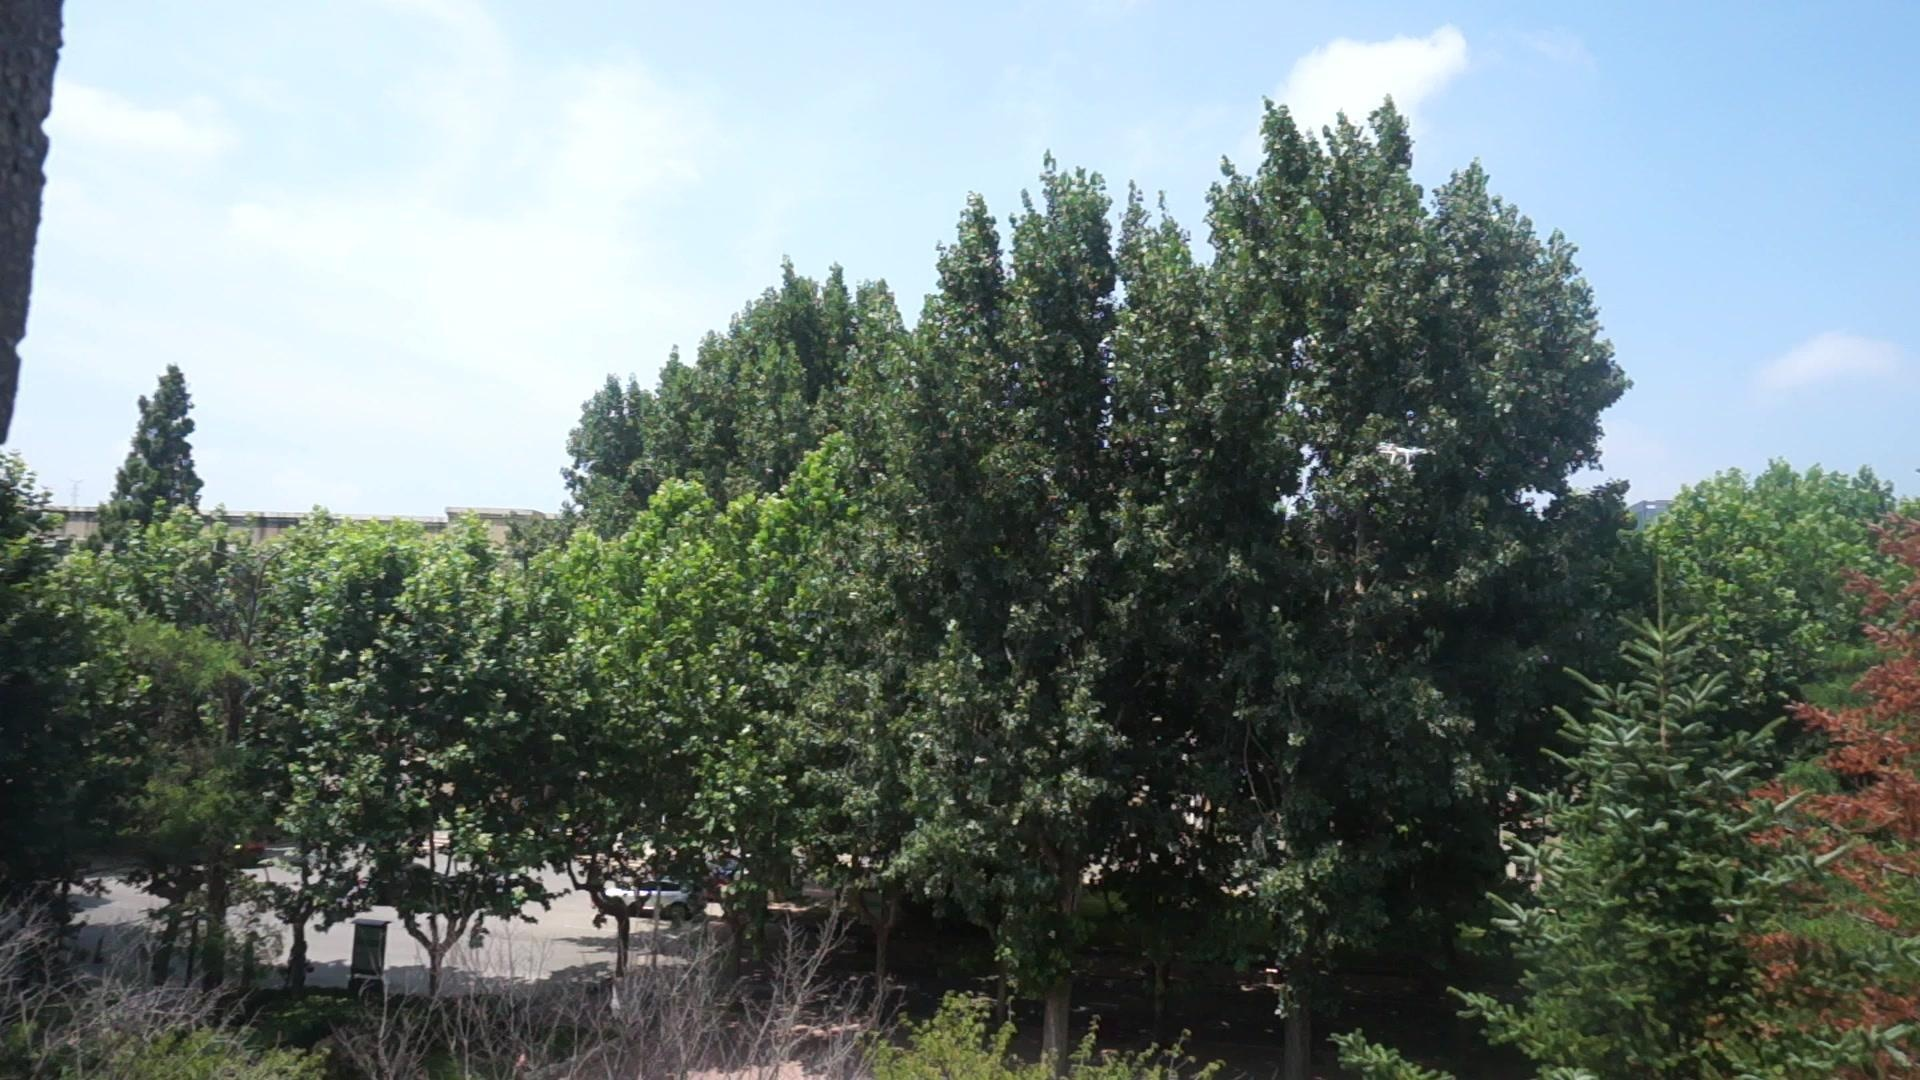UAV: (1381, 444, 1429, 465)
